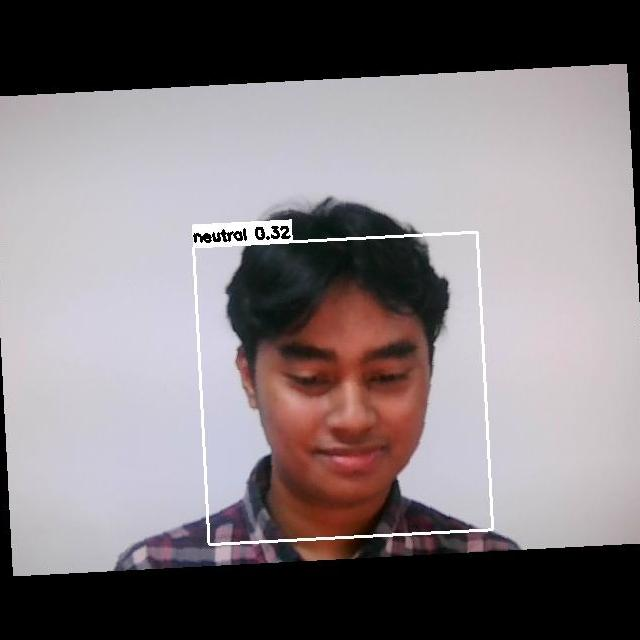Happy: (254, 319, 443, 484)
